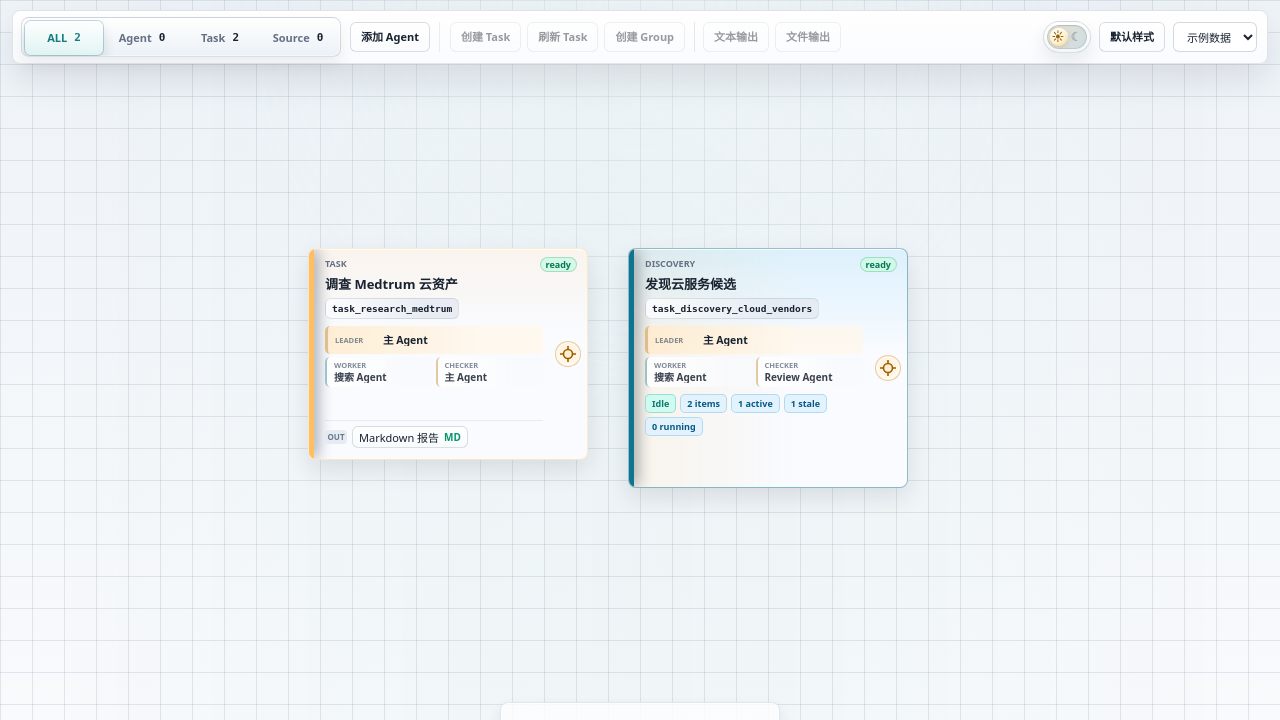
App › root dock › restores Task root node to pre-drag position after drag-to-dock minimize
Press the mouse on the 1st button with class "emap-canvas-task-node" at (448, 354), box left=308, top=248, right=588, bottom=460
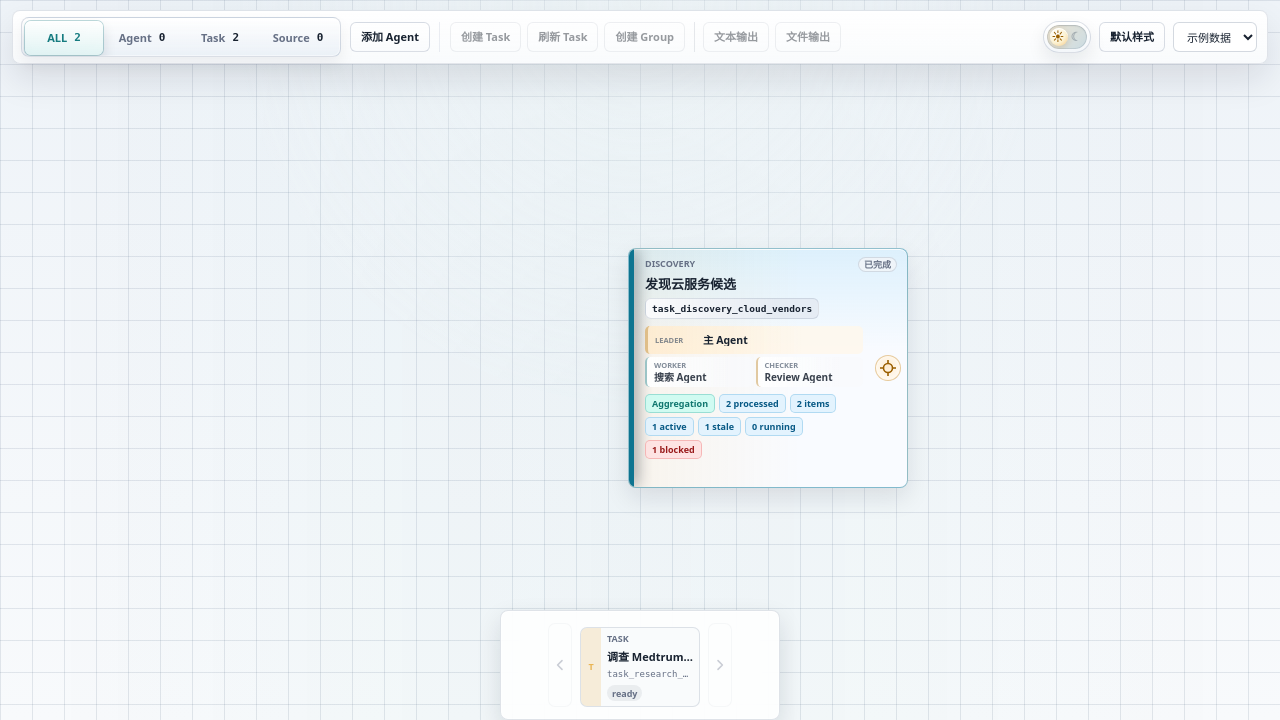
Check: the button with aria-label "复原 Task 调查 Medtrum 云资产" is shown
Click the button with aria-label "复原 Task 调查 Medtrum 云资产" at (640, 667), box left=580, top=627, right=700, bottom=707
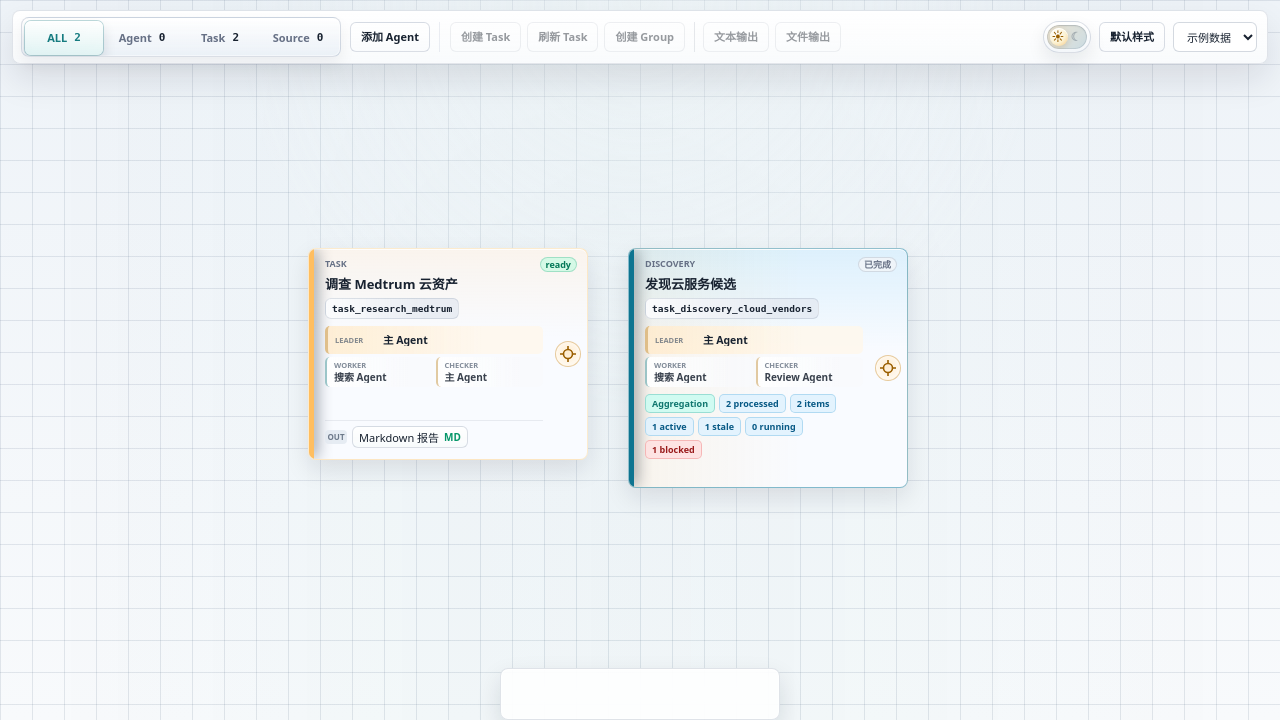
Check: the 1st button with class "emap-canvas-task-node" is shown, box left=308, top=248, right=588, bottom=460
